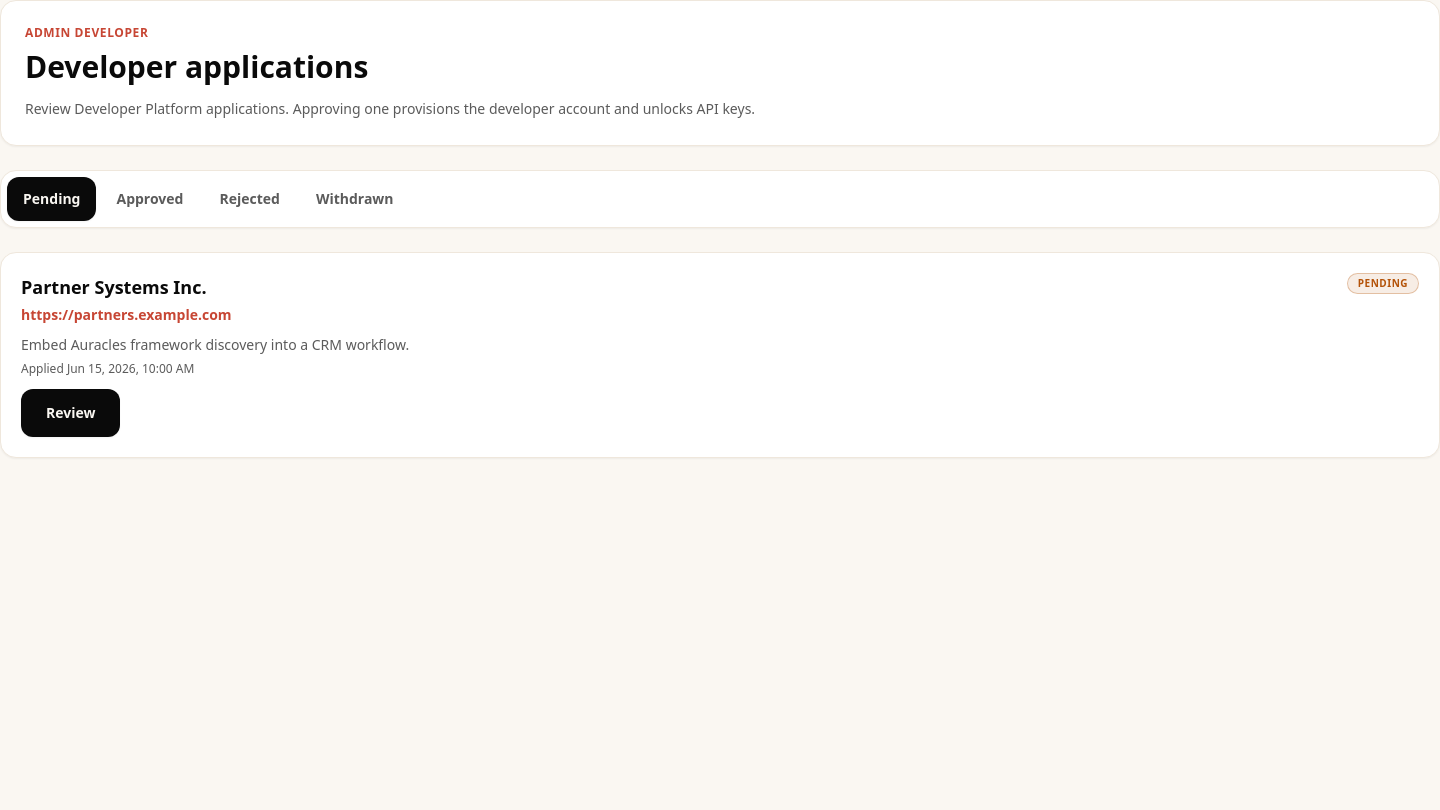
it: AdminDeveloperApplicationsPanel › offers review actions without asking for a code
Click the button "Review".
click(71, 413)  # box [21,389,120,437]
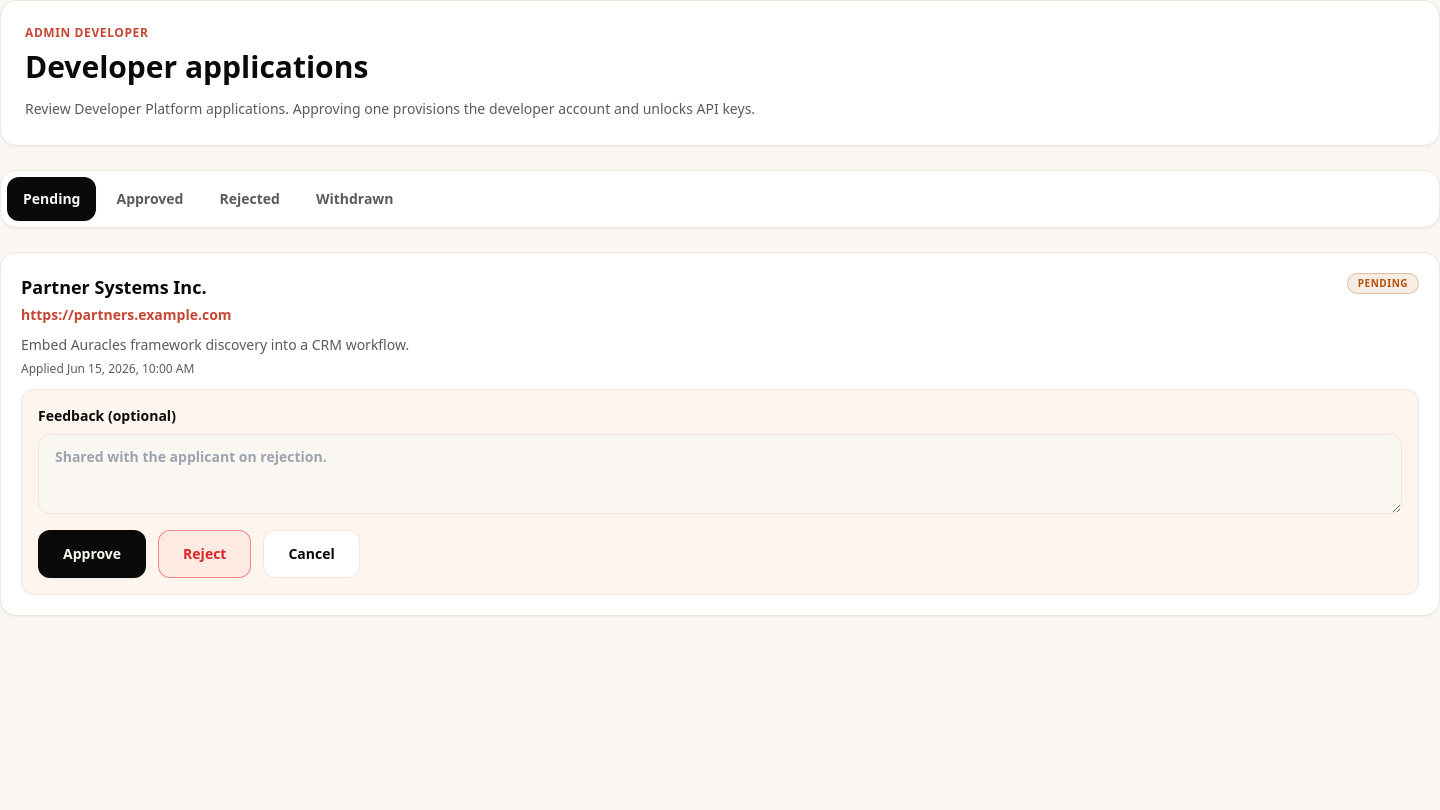
Expected: the button "Approve" is enabled, [38,530,146,578]
